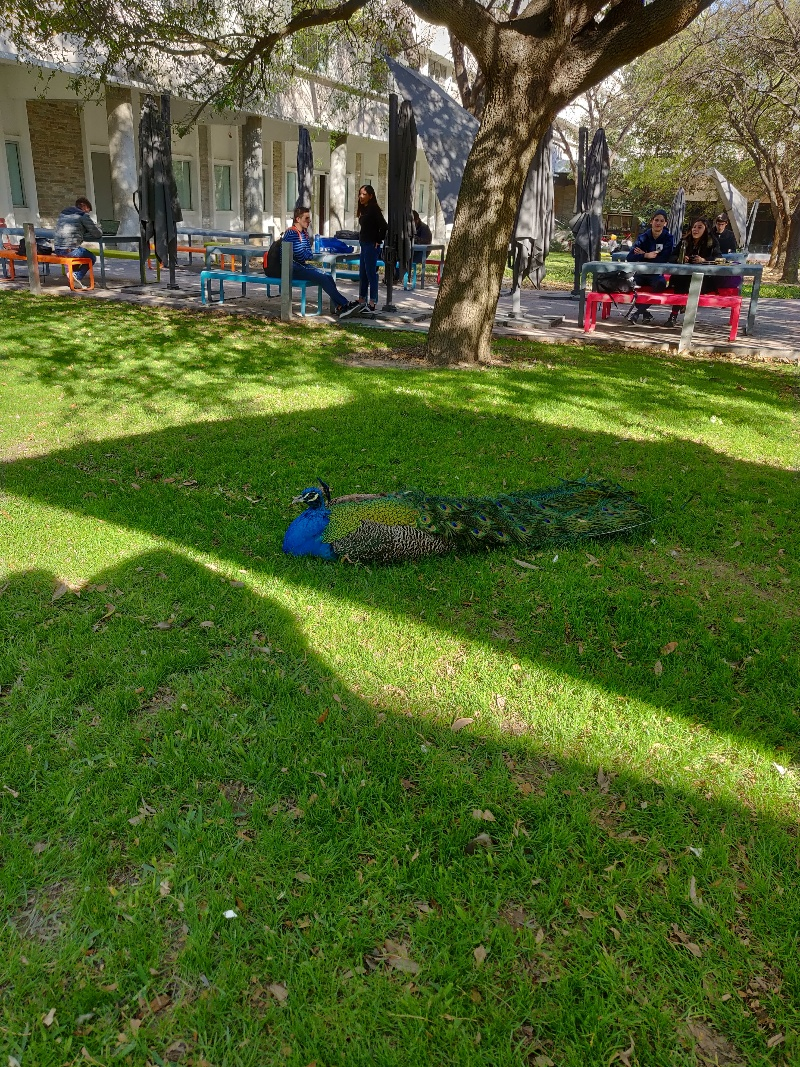pavoreal: (279, 477, 425, 566)
